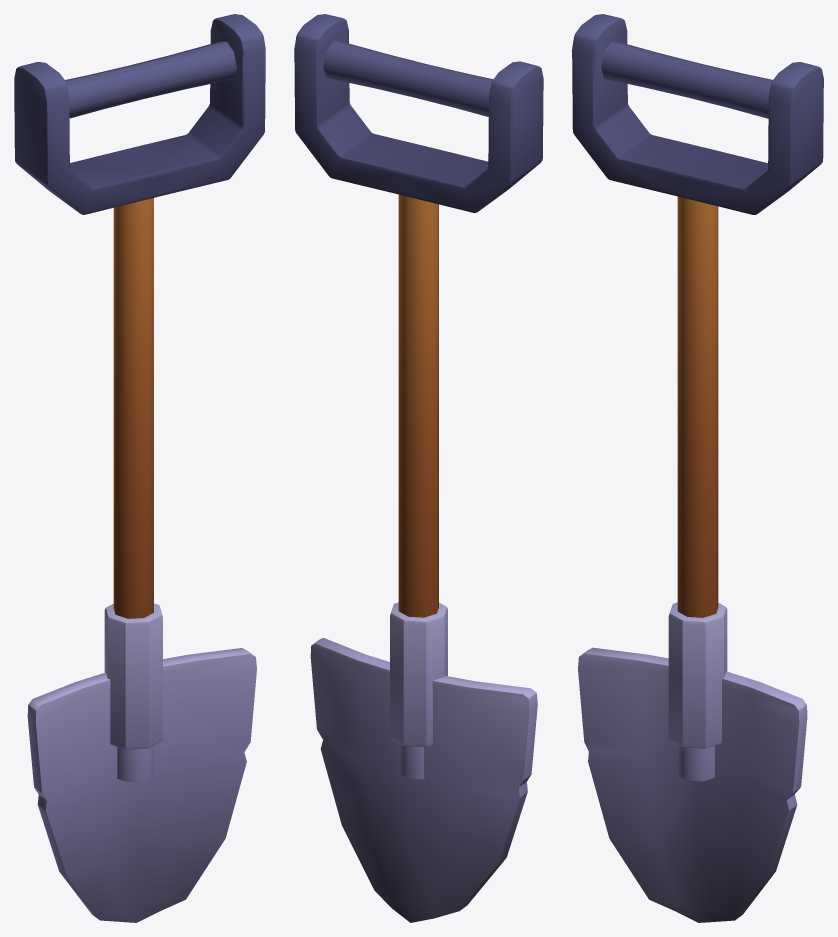
File: shovel.fbx
3 views of the same model, side by side, from view 1: azimuth 30°, elevation 25°; view 2: azimuth 150°, elevation 25°; view 3: azimuth 330°, elevation 25° (orthographic).
Visible parts, largest first — view 1: Shovel.001; view 2: Shovel.001; view 3: Shovel.001.
Boxes of the visible parts, bbox=[...] form: Shovel.001: bbox=[14, 14, 265, 922]; Shovel.001: bbox=[294, 14, 543, 922]; Shovel.001: bbox=[572, 14, 823, 922].
Size of the model in its own units: 3.04 by 11.49 by 0.8298.
